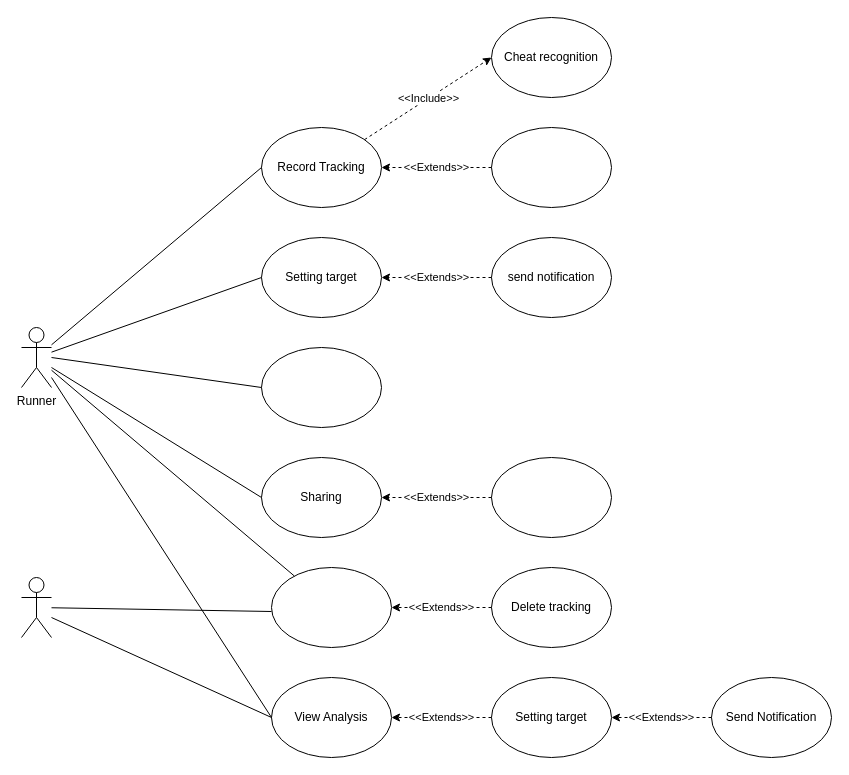
Some shapes in this 849 by 775 pixel diagram are drawn without their labels. Here are the shapes that lost their labels. From the top down, the box of each, then its label:
(490, 126, 612, 208): Route suggestion
(260, 346, 382, 428): Achievement
(490, 456, 612, 538): To another social network
(20, 576, 52, 638): Admin
(270, 566, 392, 648): View trackings
